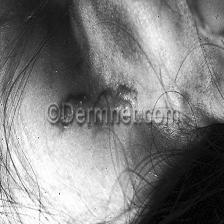Benign Marking or Mole: (61, 86, 138, 109)
